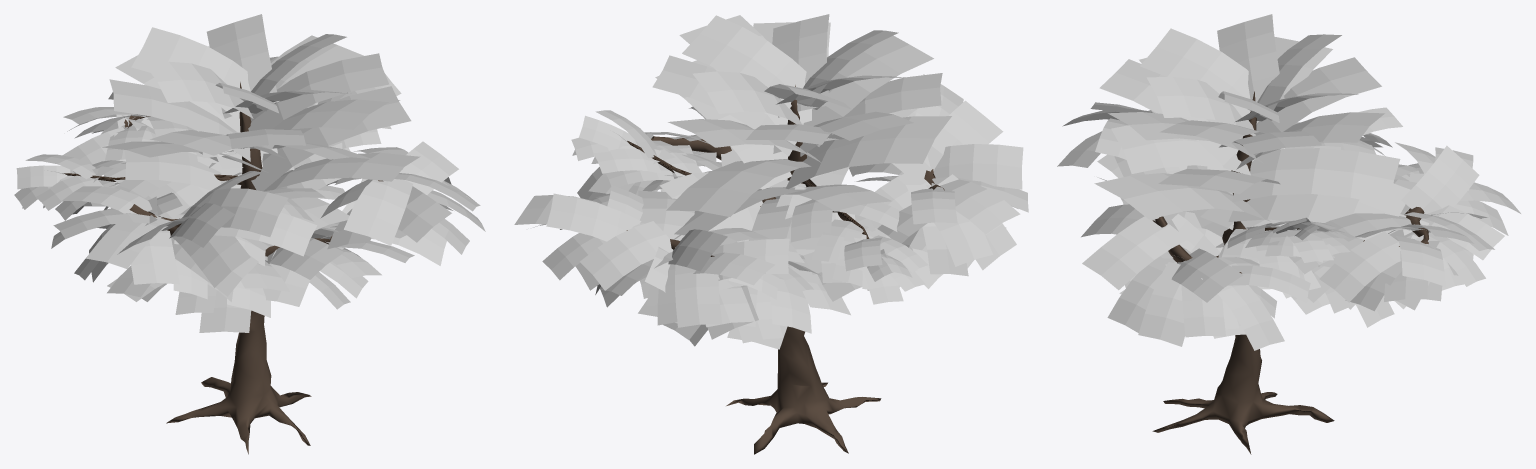
File: lehtipuu_extra.fbx
3 views of the same model, side by side, from view 1: azimuth 30°, elevation 25°; view 2: azimuth 150°, elevation 25°; view 3: azimuth 270°, elevation 25° (orthographic). The views are drawn at different scales.
Parts seen in each view (by area): view 1: rlehmusto, runko; view 2: rlehmusto, runko; view 3: rlehmusto, runko.
Part boxes in pixels (bbox=[...]): rlehmusto: bbox=[14, 14, 485, 332]; runko: bbox=[63, 82, 383, 454]; rlehmusto: bbox=[514, 14, 1028, 349]; runko: bbox=[626, 85, 944, 454]; rlehmusto: bbox=[1057, 14, 1520, 350]; runko: bbox=[1152, 91, 1428, 454].
Size of the model in its own units: 826 by 711 by 814.
